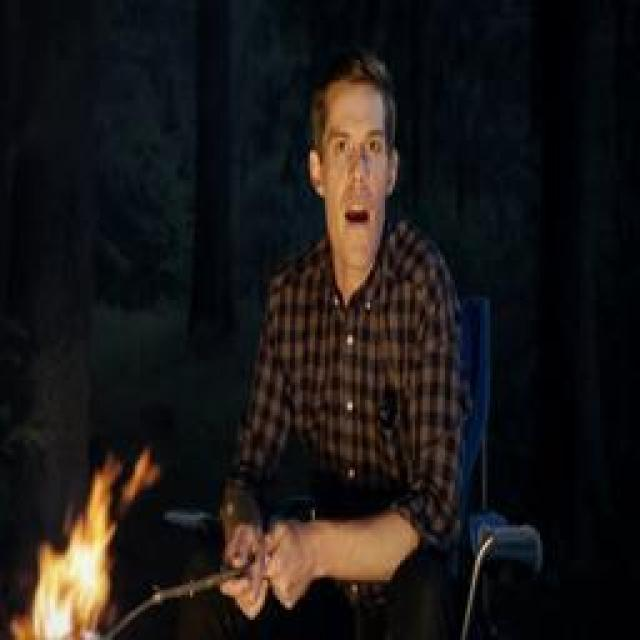Fire: (9, 450, 162, 640)
